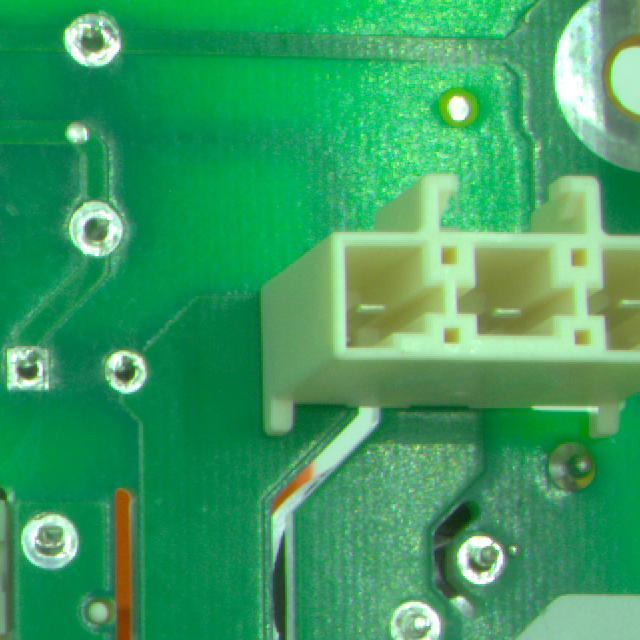Insufficient solder: (14, 501, 92, 582), (63, 195, 126, 276), (62, 11, 127, 79), (86, 345, 155, 406), (449, 533, 511, 591), (5, 343, 56, 394), (385, 600, 447, 640)
